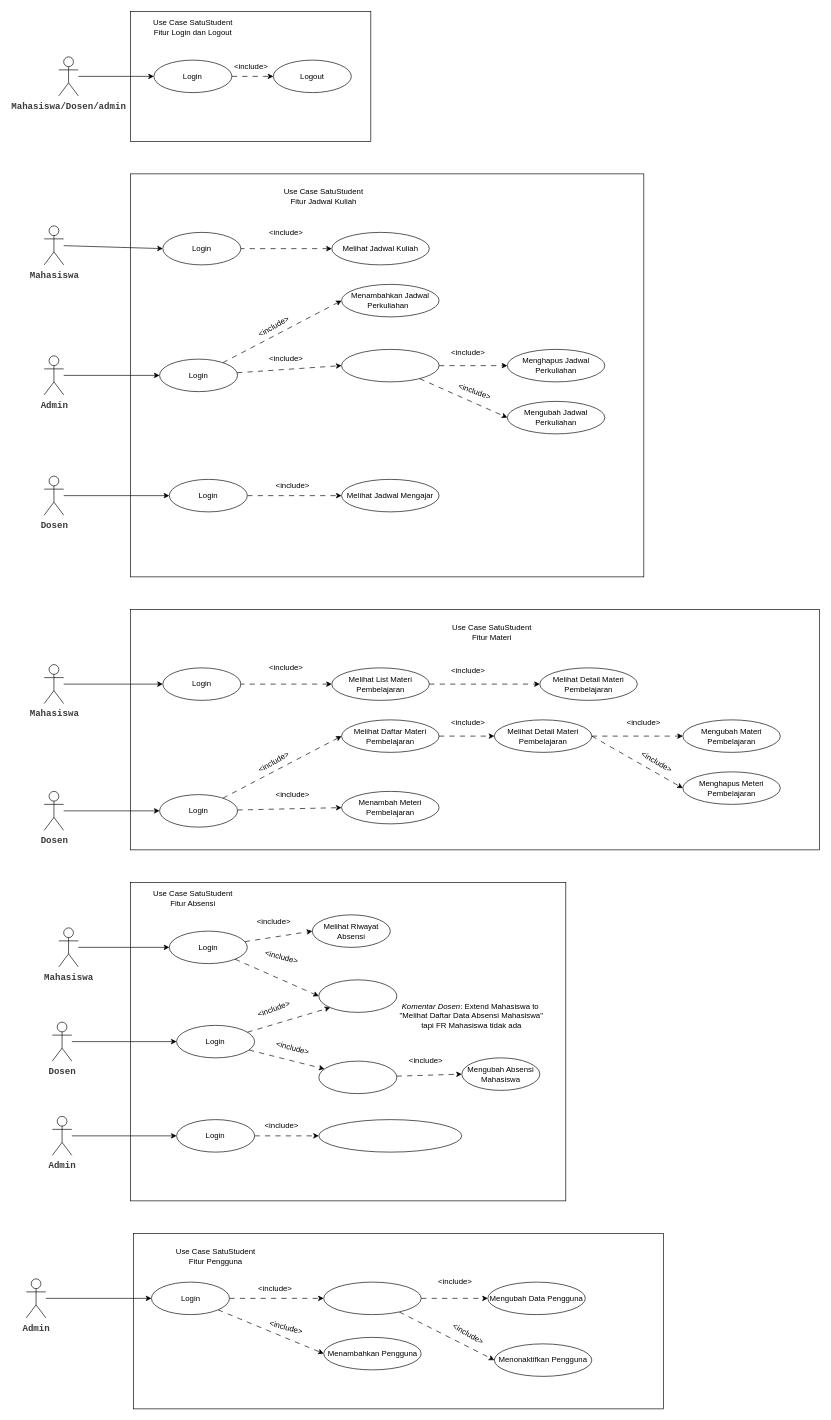
This 831x1420 diagram has some shape labels left out. The box of each missing label's shape, as (x1, y1, x2, y2) in pixels:
Melakukan Absensi: (318, 979, 397, 1012)
Melihat Daftar Data Absensi Mahasiswa: (318, 1060, 397, 1094)
Melihat Daftar Data Absensi Mahasiswa dan Dosen: (318, 1119, 462, 1152)
Melihat Daftar Data Pengguna: (323, 1281, 421, 1315)
Melihat Daftar Jadwal Perkuliahan: (341, 349, 439, 382)
